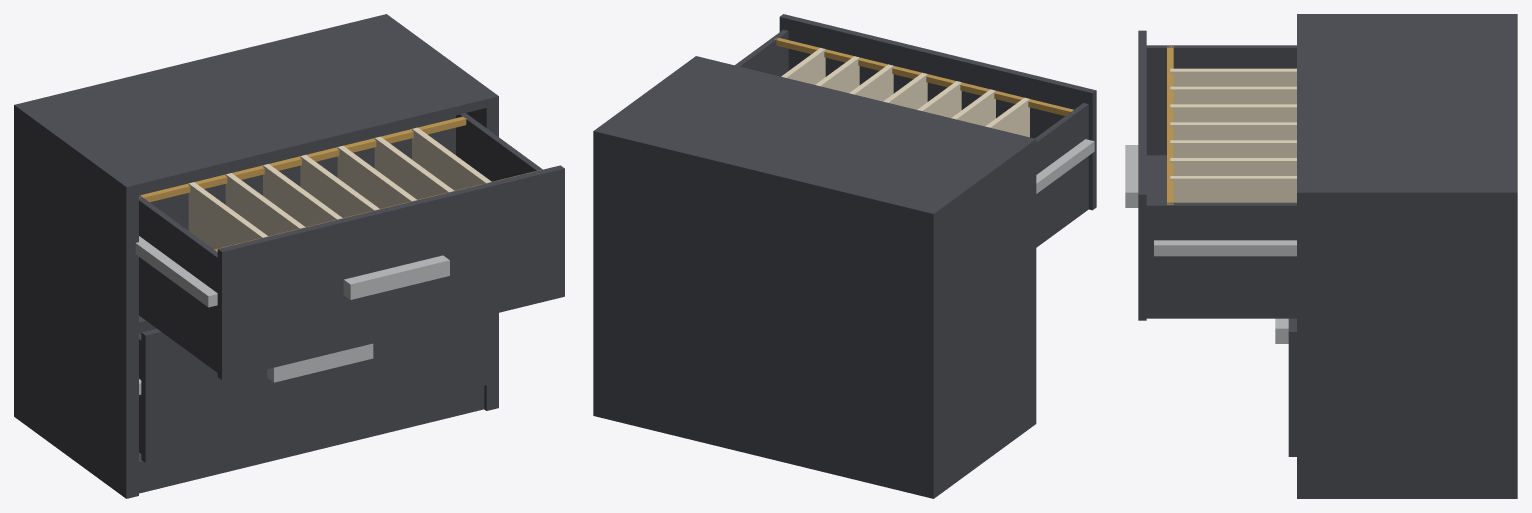
The model's file is FN_Cabinet_Lateral.obj.
3 renders of one model, left to right at view 1: azimuth 30°, elevation 25°; view 2: azimuth 150°, elevation 25°; view 3: azimuth 270°, elevation 25°, orthographic. The views are drawn at different scales.
Parts seen in each view (by area): view 1: FN_Cabinet_Lateral; view 2: FN_Cabinet_Lateral; view 3: FN_Cabinet_Lateral.
Boxes of the visible parts, left/top/right/bottom form: FN_Cabinet_Lateral: left=14, top=14, right=564, bottom=498; FN_Cabinet_Lateral: left=593, top=14, right=1096, bottom=498; FN_Cabinet_Lateral: left=1125, top=14, right=1517, bottom=498.
Size of the model in its own units: 0.9 by 0.72 by 0.836.
1 material, 1 textured.
